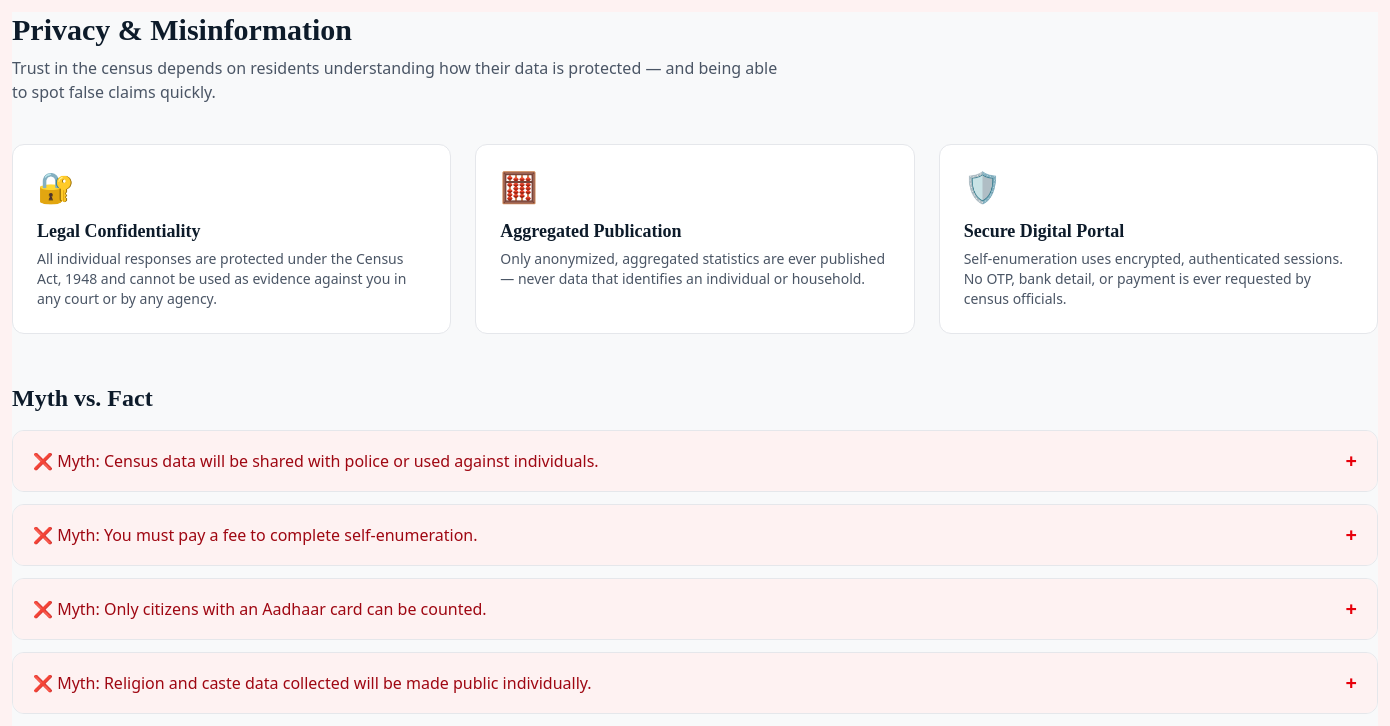
Scenario: Privacy page › toggles the accordion open and closed on click
Click to open.
What coordinates should you click on to do the following:
click the button that starts with "❌ Myth:"
I would click on:
 (68, 461)
Its box is left=13, top=431, right=1377, bottom=491.
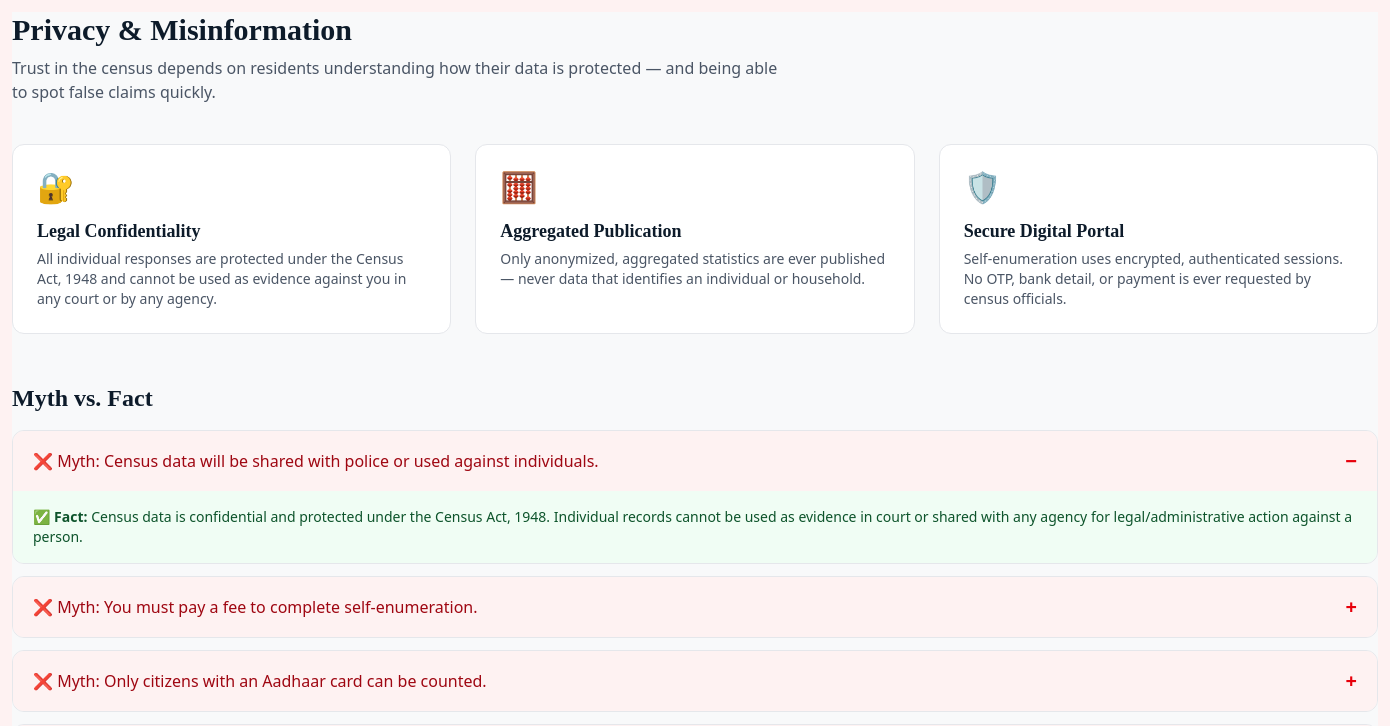
Now the button that starts with "❌ Myth:" is expanded
Click again to close.
What coordinates should you click on to do the following:
click the button that starts with "❌ Myth:"
I would click on:
 (68, 461)
Its box is left=13, top=431, right=1377, bottom=491.
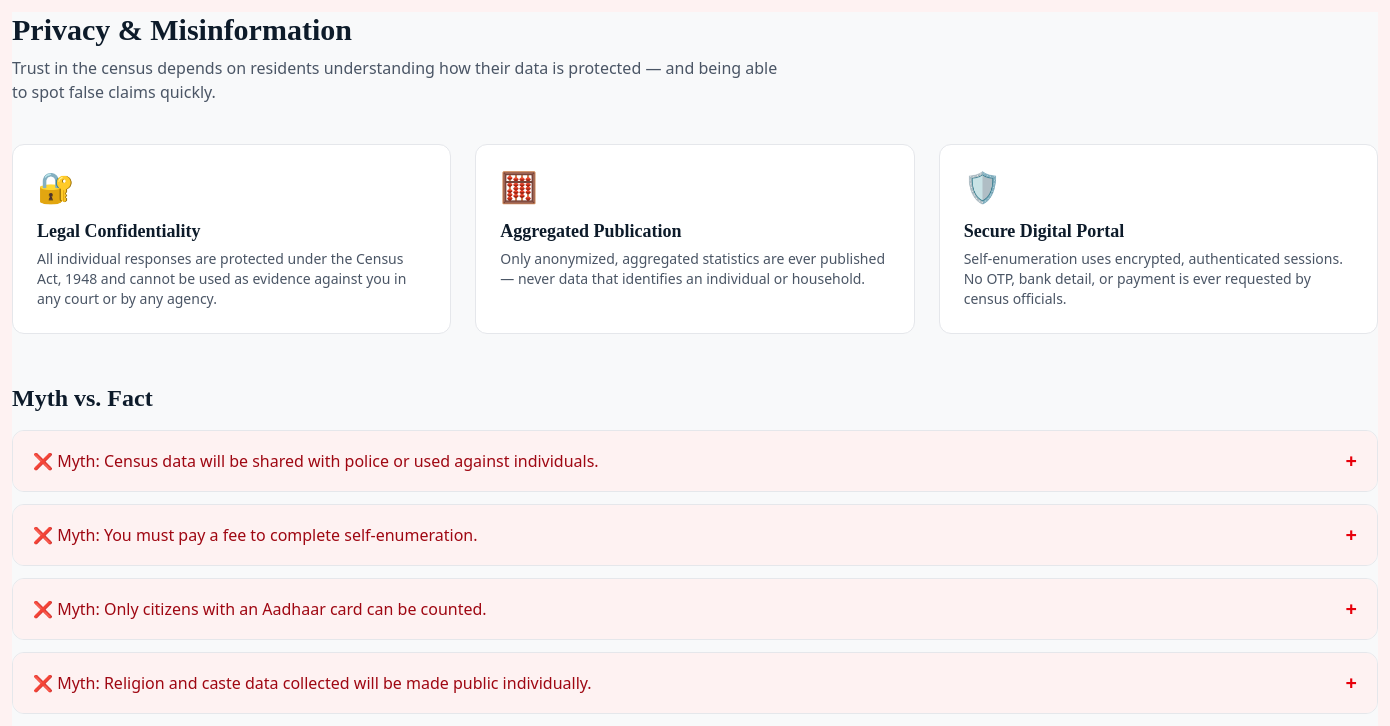
Now the button that starts with "❌ Myth:" is collapsed, box left=13, top=431, right=1377, bottom=491
